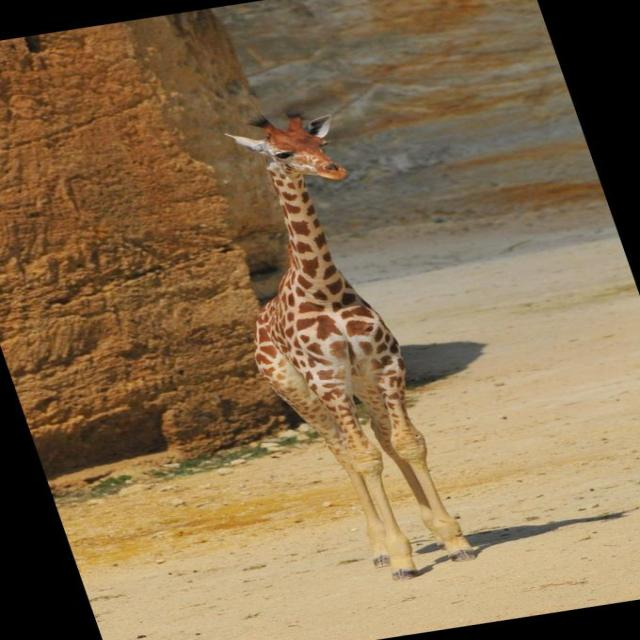Giraffe: (214, 99, 506, 588)
